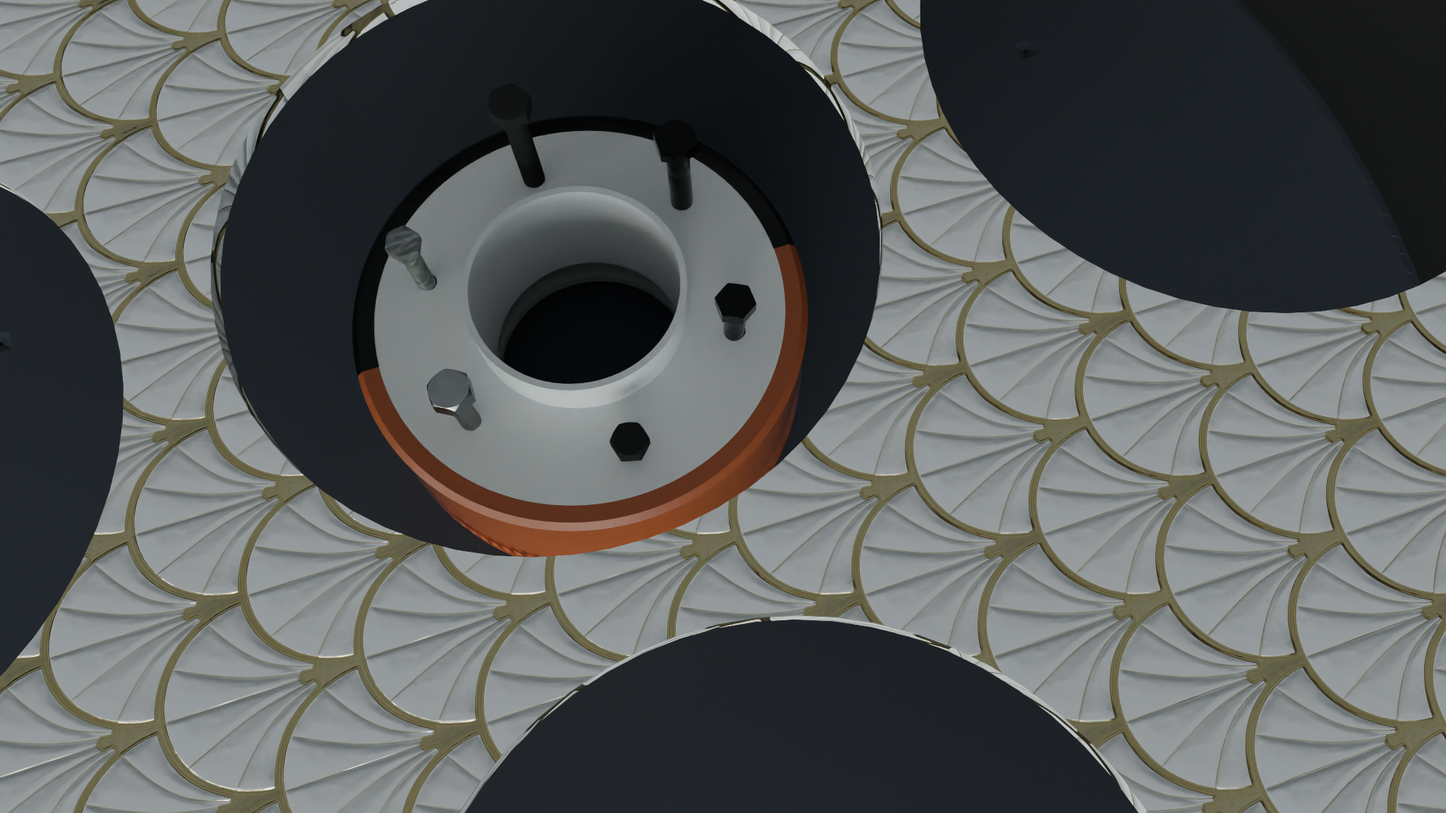bolt: (427, 369, 472, 412), (653, 119, 698, 157), (487, 84, 529, 123), (715, 283, 756, 318), (609, 422, 649, 457), (385, 225, 419, 258)
